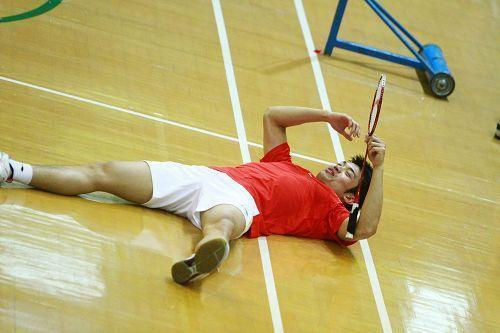Fall-Detected: (2, 69, 385, 300)
